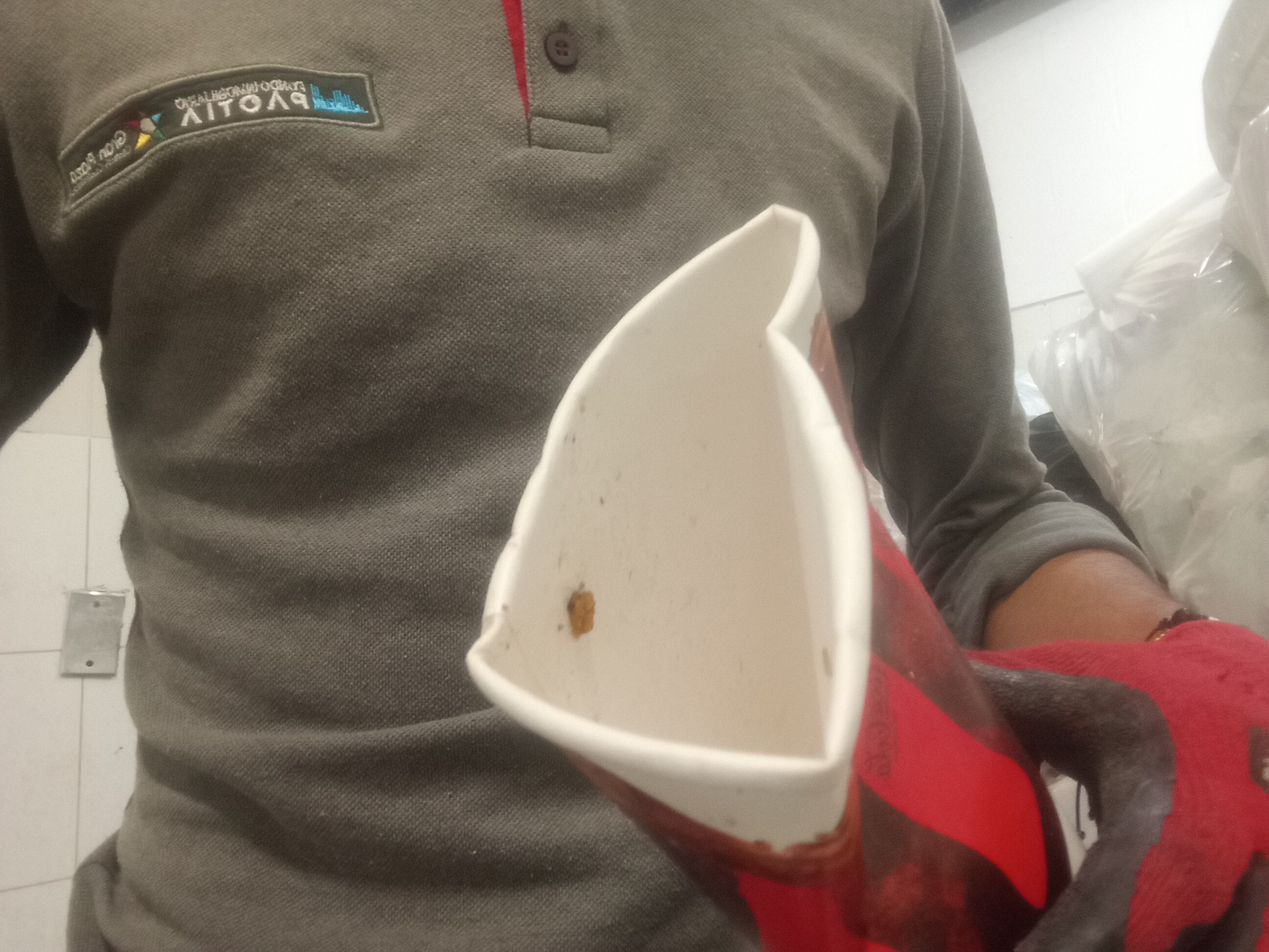Carton: (467, 206, 1069, 952)
